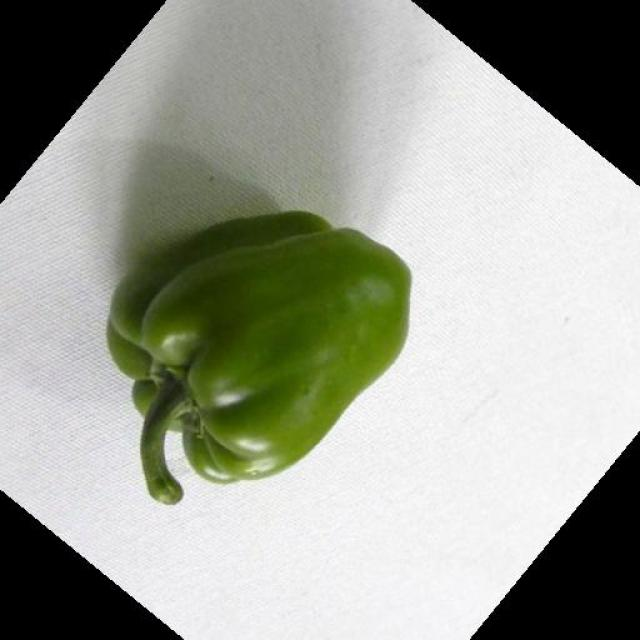Fresh_Capsicum: (57, 157, 402, 462)
